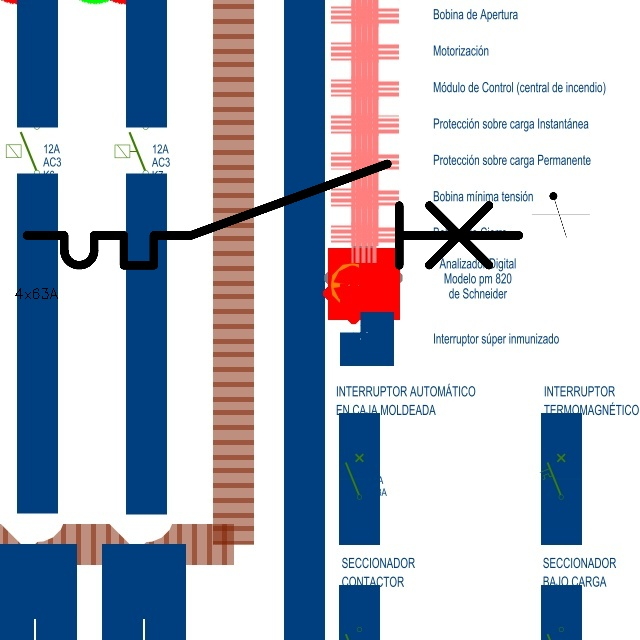interruptor_termomagnetico: (14, 151, 531, 278)
